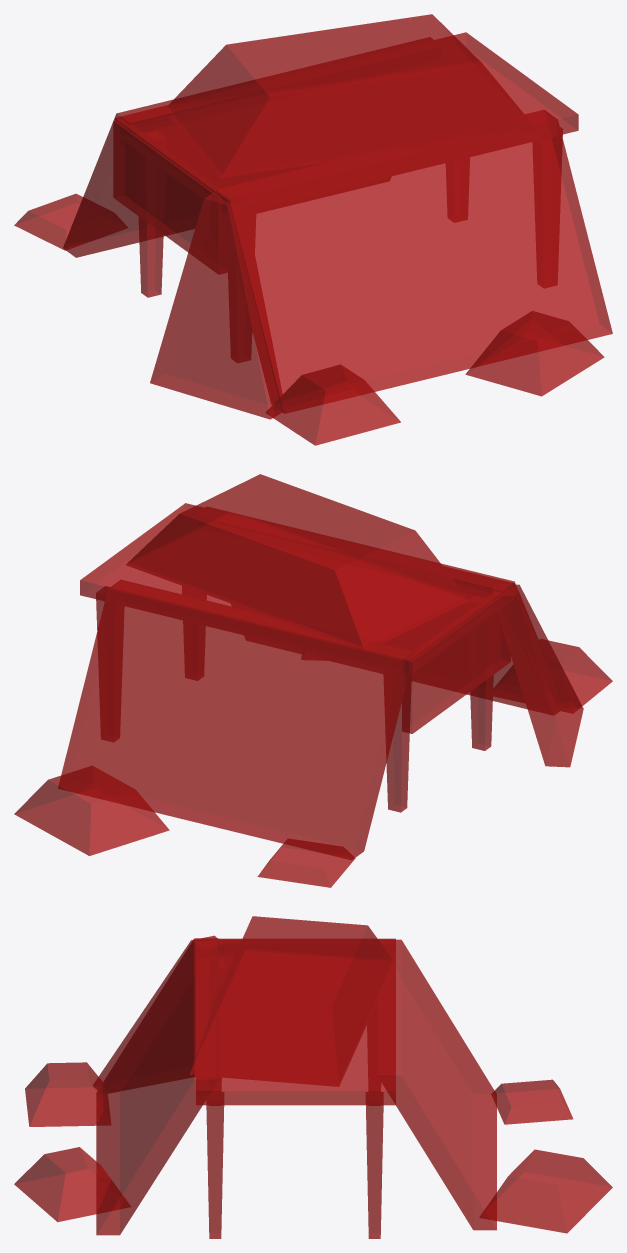
Rendered from SM_Prop_Blanket_Fort_02_Collision.fbx.
The picture shows the model from 3 angles, top to bottom: view 1: azimuth 30°, elevation 25°; view 2: azimuth 150°, elevation 25°; view 3: azimuth 270°, elevation 25°; orthographic projection. The views are drawn at different scales.
Visible parts, largest first — view 1: SM_Prop_Blanket_Fort_02_Collision; view 2: SM_Prop_Blanket_Fort_02_Collision; view 3: SM_Prop_Blanket_Fort_02_Collision.
Part boxes in pixels (x1,y1,x2,y2): SM_Prop_Blanket_Fort_02_Collision: [14, 14, 612, 445]; SM_Prop_Blanket_Fort_02_Collision: [14, 474, 612, 887]; SM_Prop_Blanket_Fort_02_Collision: [14, 916, 612, 1238].
Size of the model in its own units: 201 by 107 by 280.
